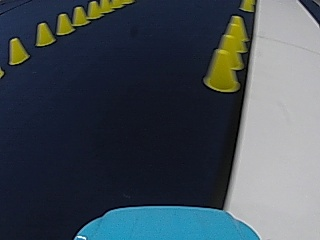cone: (202, 46, 239, 91), (217, 17, 248, 68), (219, 42, 243, 69), (7, 37, 29, 64), (34, 21, 54, 46), (55, 13, 72, 35), (72, 6, 87, 25), (87, 1, 101, 18), (239, 0, 253, 11)
